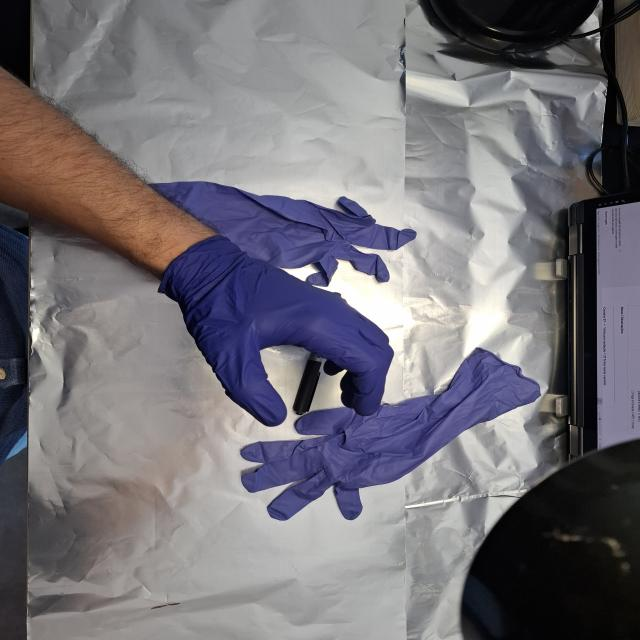glove_on: (156, 234, 400, 430)
